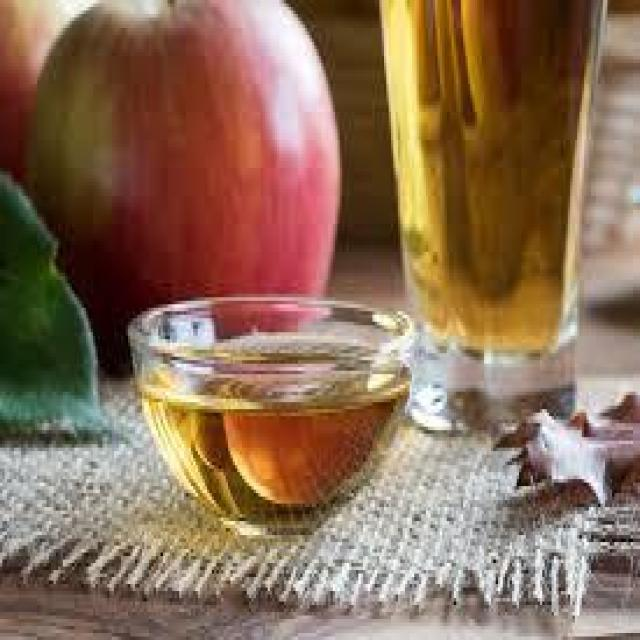maca: (30, 0, 342, 374)
